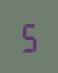five: (19, 19, 36, 53)
